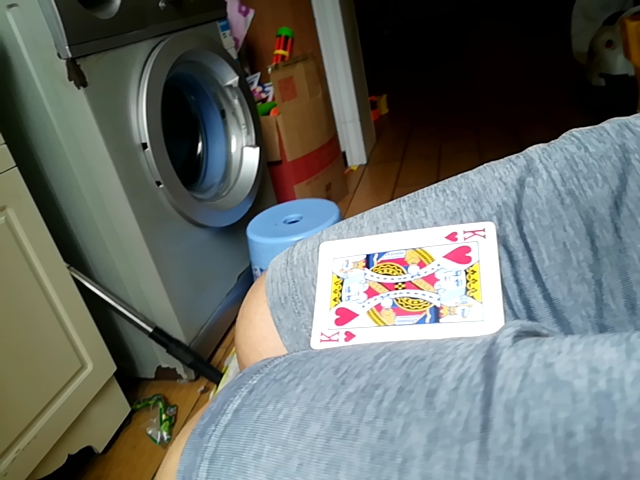hx k: (305, 222, 502, 352)
